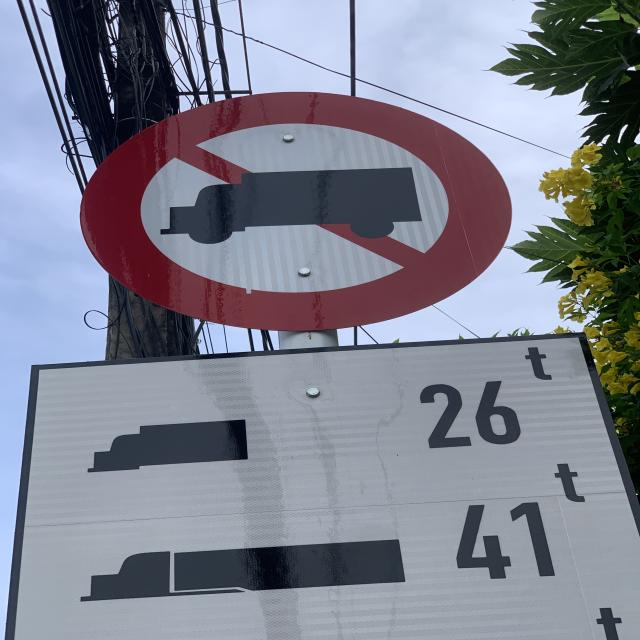Cam_Xe_Tai: (82, 90, 516, 335)
